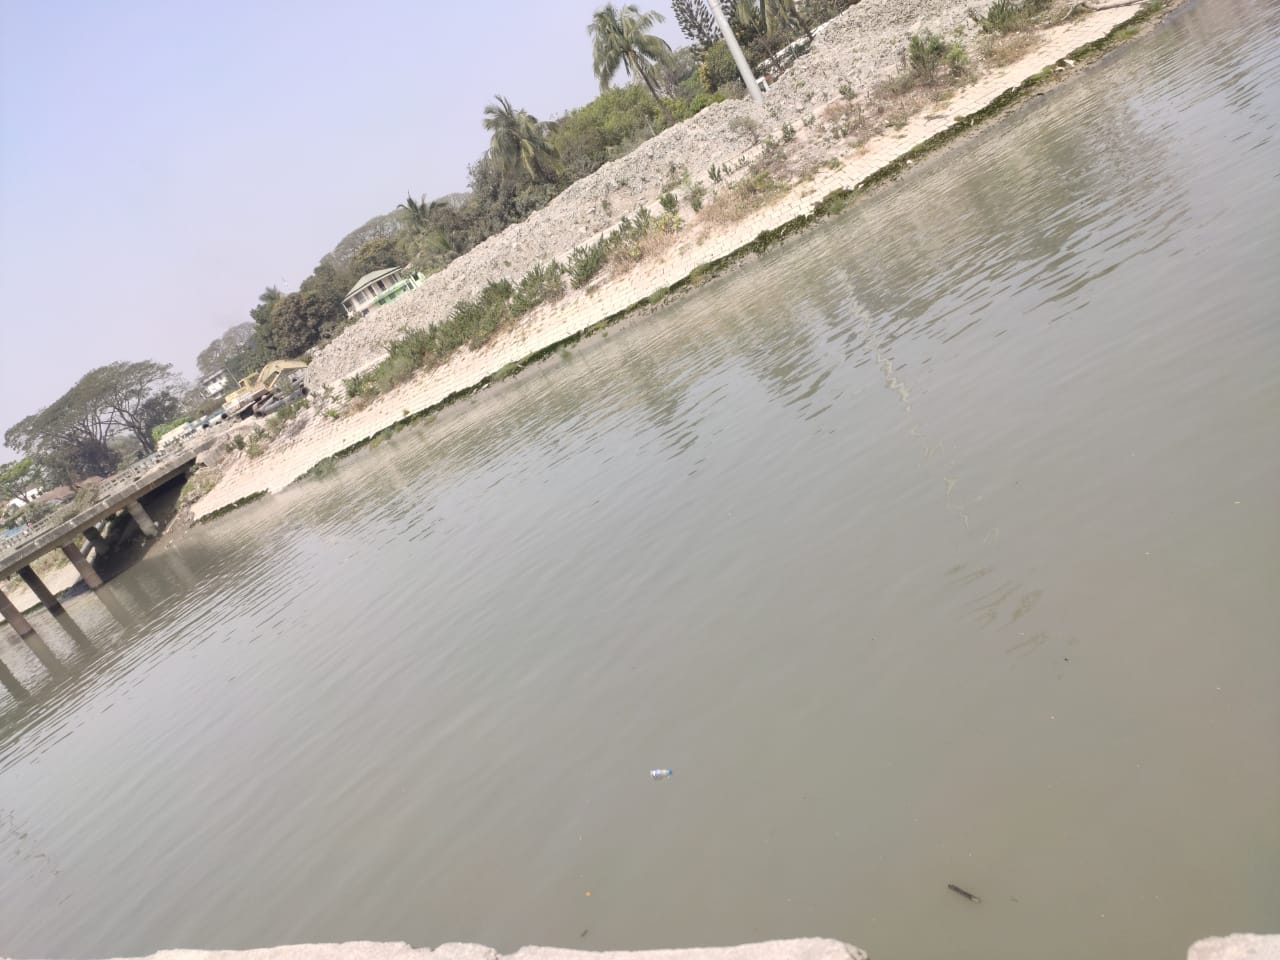Plastic Bottle: (649, 769, 672, 779)
